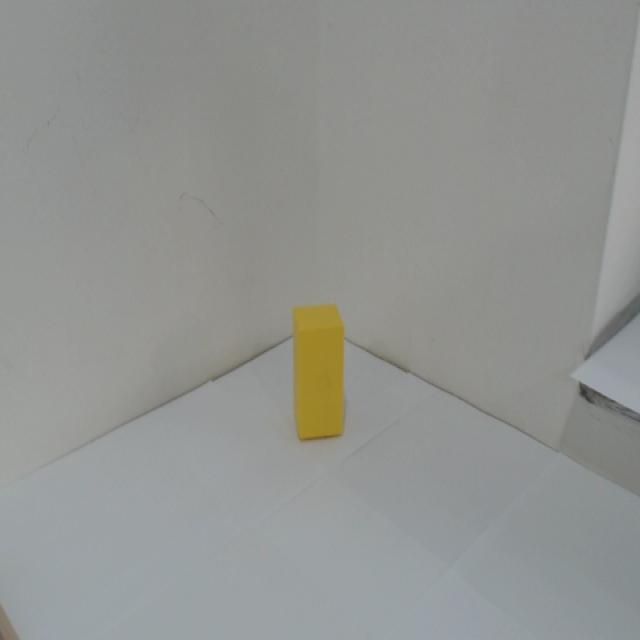cube: (284, 302, 350, 444)
